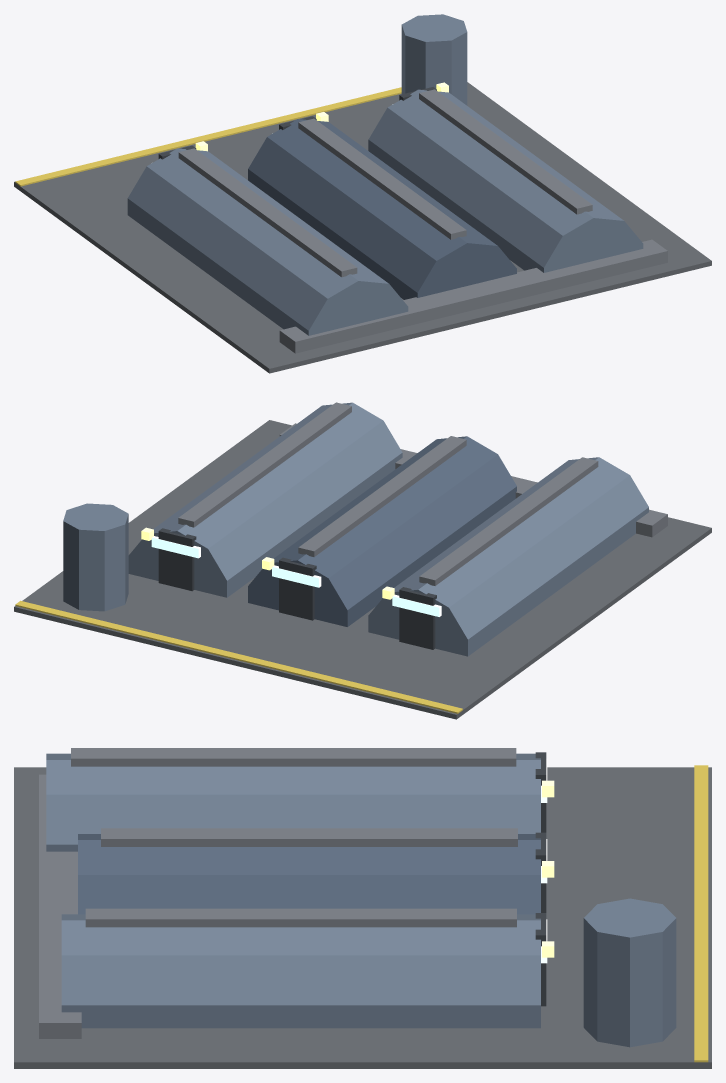
File: zone_low_6.glb
3 renders of one model, top to bottom at view 1: azimuth 30°, elevation 25°; view 2: azimuth 150°, elevation 25°; view 3: azimuth 270°, elevation 25°, orthographic. The views are drawn at different scales.
Parts seen in each view (by area): view 1: zone_low_6, detail; view 2: zone_low_6, detail; view 3: zone_low_6, detail.
Part boxes in pixels (box(x1,y1,x2,y2)): zone_low_6: box(14, 14, 711, 373); detail: box(15, 82, 448, 186); zone_low_6: box(14, 402, 711, 719); detail: box(15, 527, 462, 713); zone_low_6: box(14, 748, 711, 1068); detail: box(542, 765, 708, 1062).
Size of the model in its own units: 19.6 by 3.6 by 19.6.
